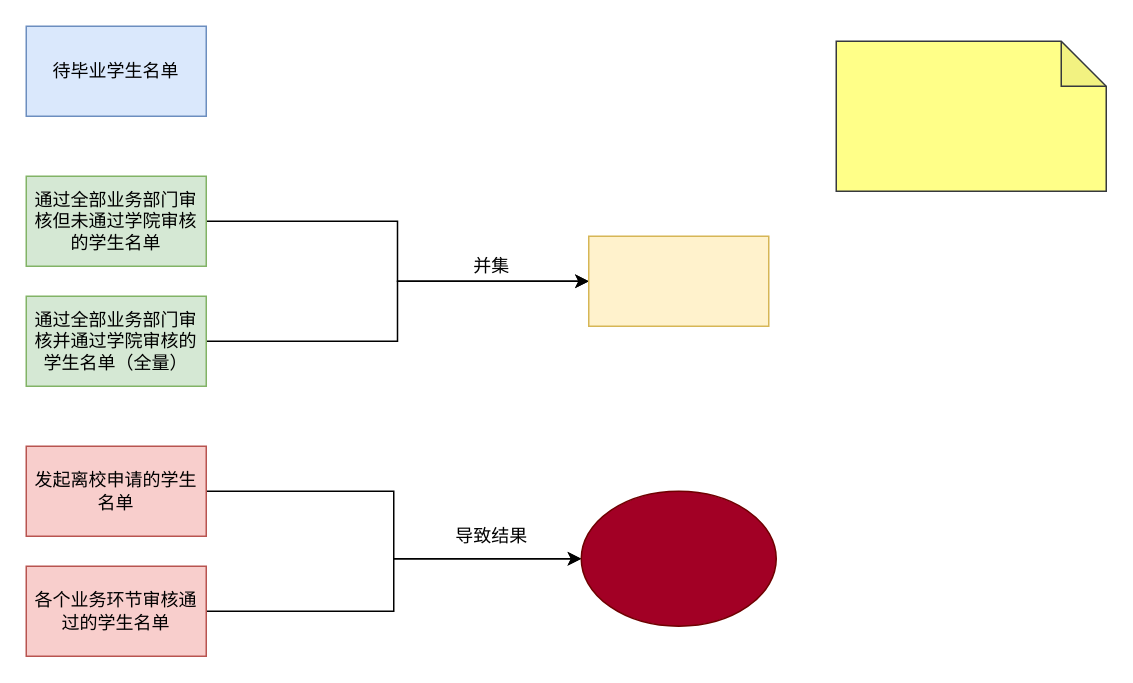
Image size: 1133x683. Some labels were removed from this diagram. The centre of each missing label's shape, as x and y in pixels:
当前统计学生名单: (x=678, y=280)
无法区分各个业务环节未通过和未申请的学生名单: (x=678, y=558)
蓝色：学校已提供数据 绿色：科探当前已提供数据 红色：需要提供的数据 黄色：我们自己统计的数据: (x=970, y=115)
